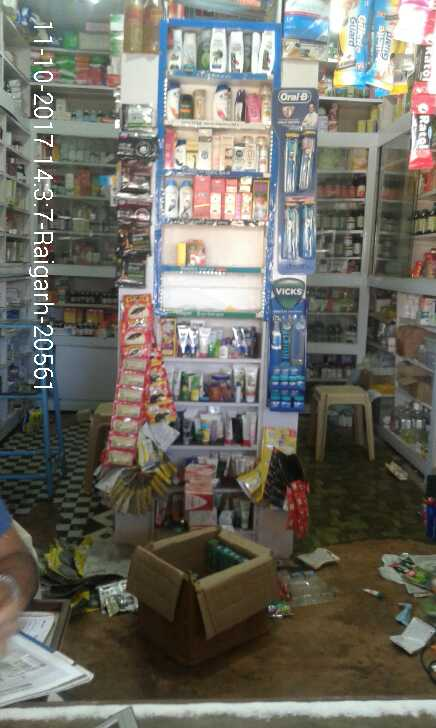oralcare: (272, 90, 318, 271)
vicks: (266, 281, 306, 412)
